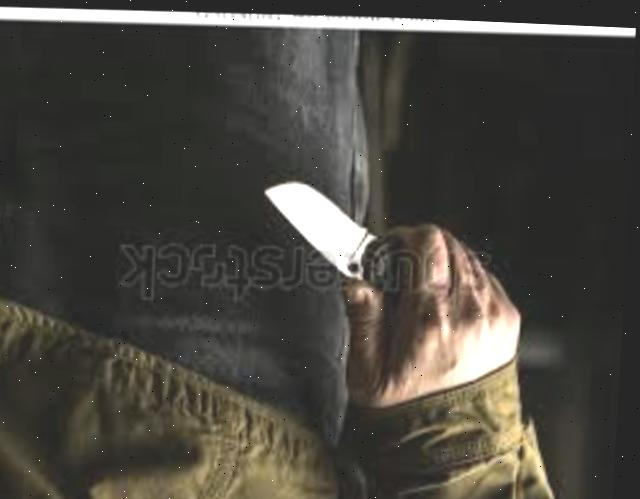pocket-knife: (254, 167, 474, 335)
